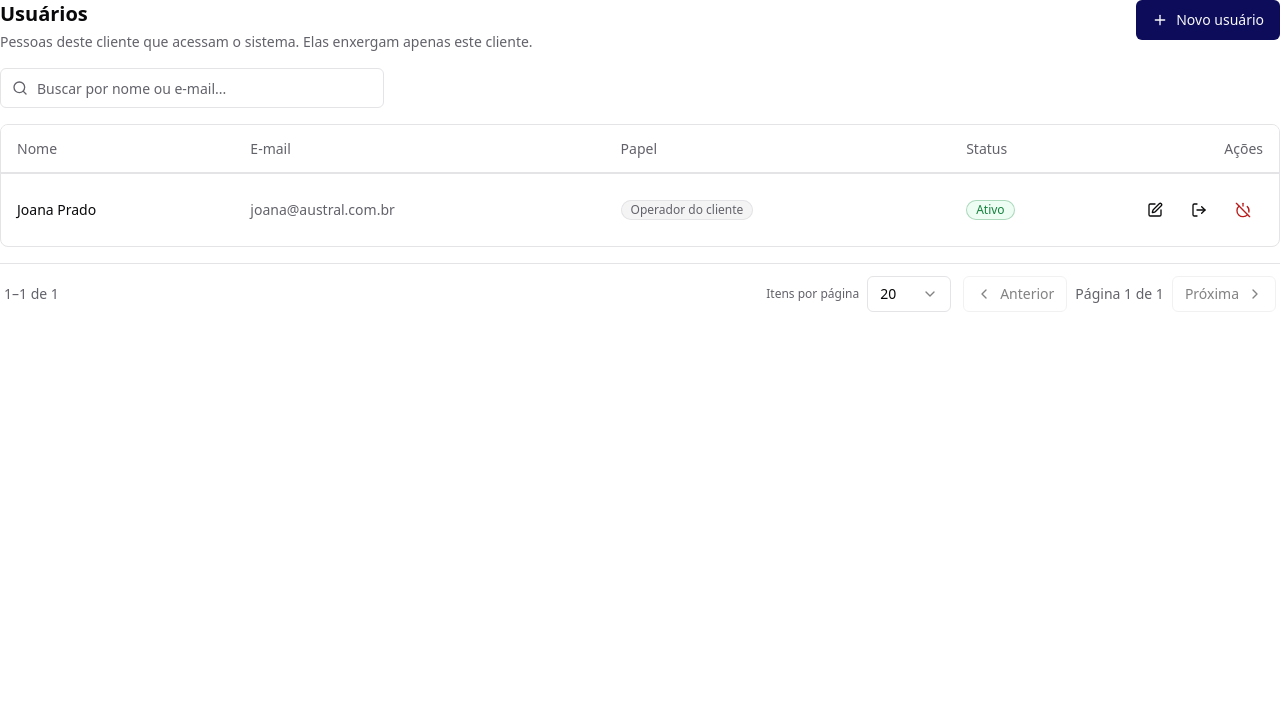
Test case: ClientUsersScreen — gaveta de criação › oferece apenas os papéis de cliente — nunca admin/gerente do sistema
Click the button "Novo usuário".
click(1208, 20)  # box [1136, 0, 1279, 40]
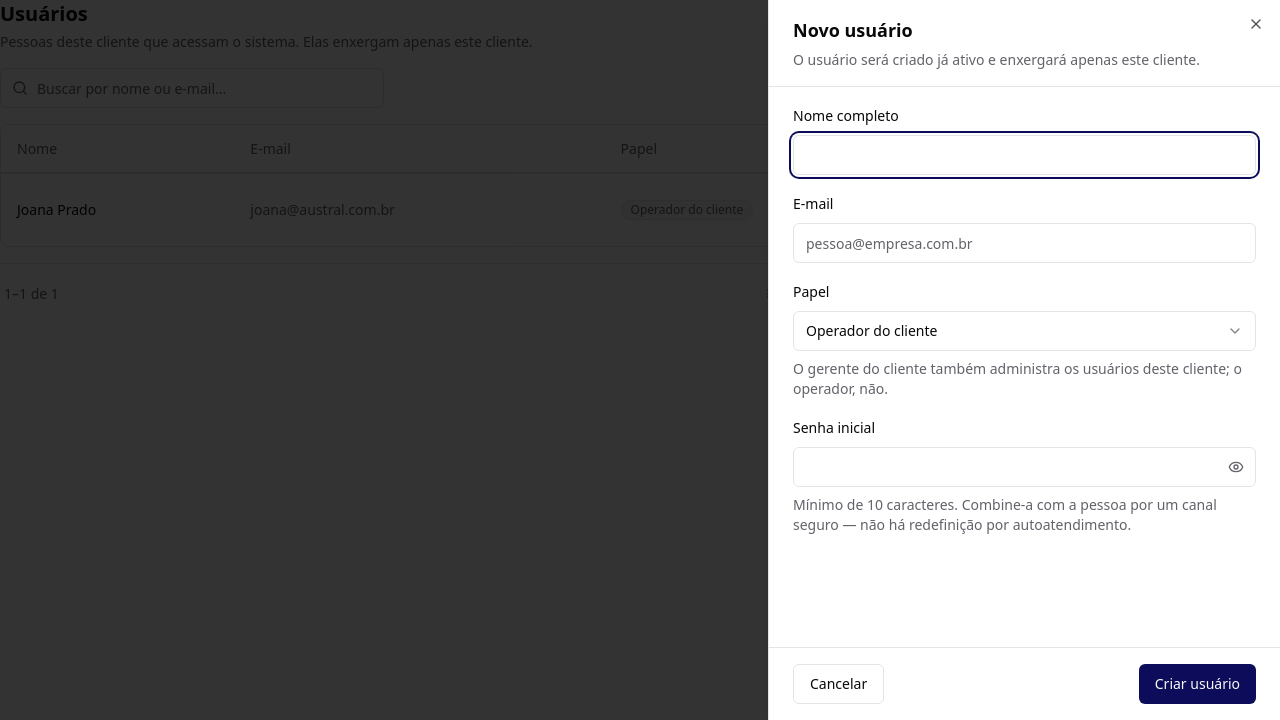
Result: the dialog is shown at [768, 0, 1279, 719]
Click the dropdown named "Papel".
click(872, 330)  # box [793, 311, 1256, 351]
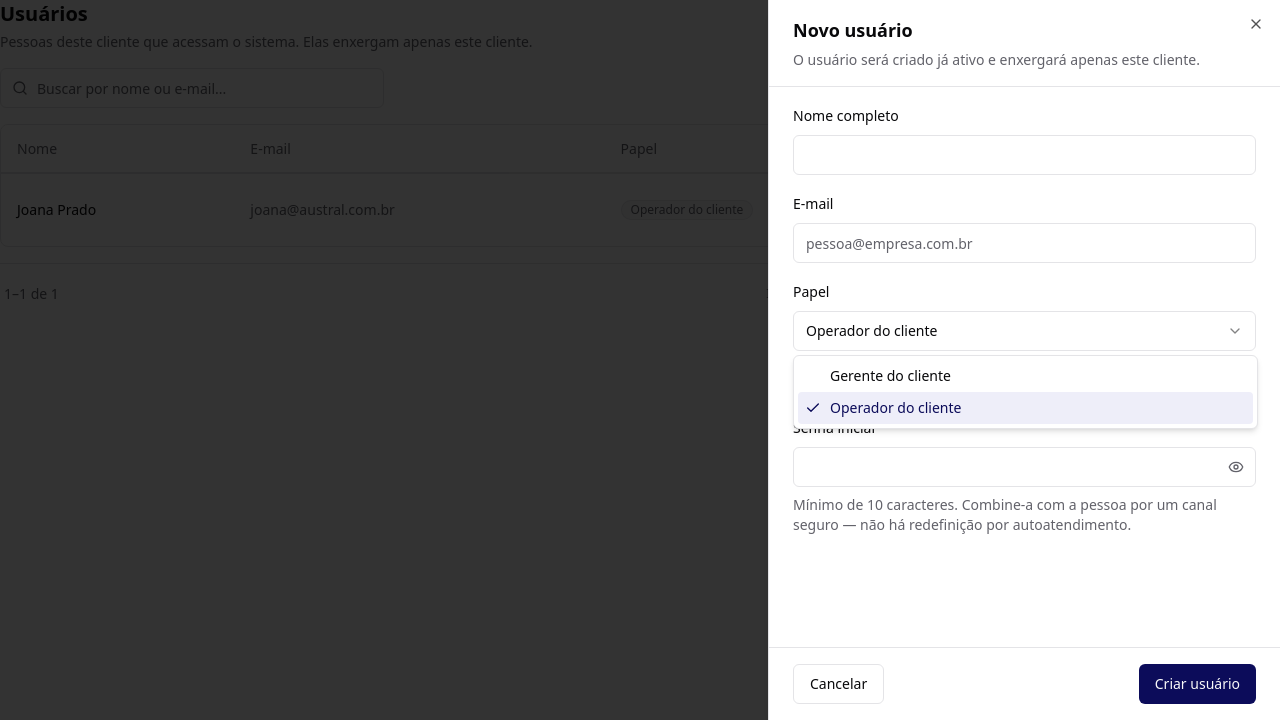
Result: the options read "Gerente do cliente", "Operador do cliente", in this order at [830, 366, 951, 385]; [798, 392, 1253, 424]
